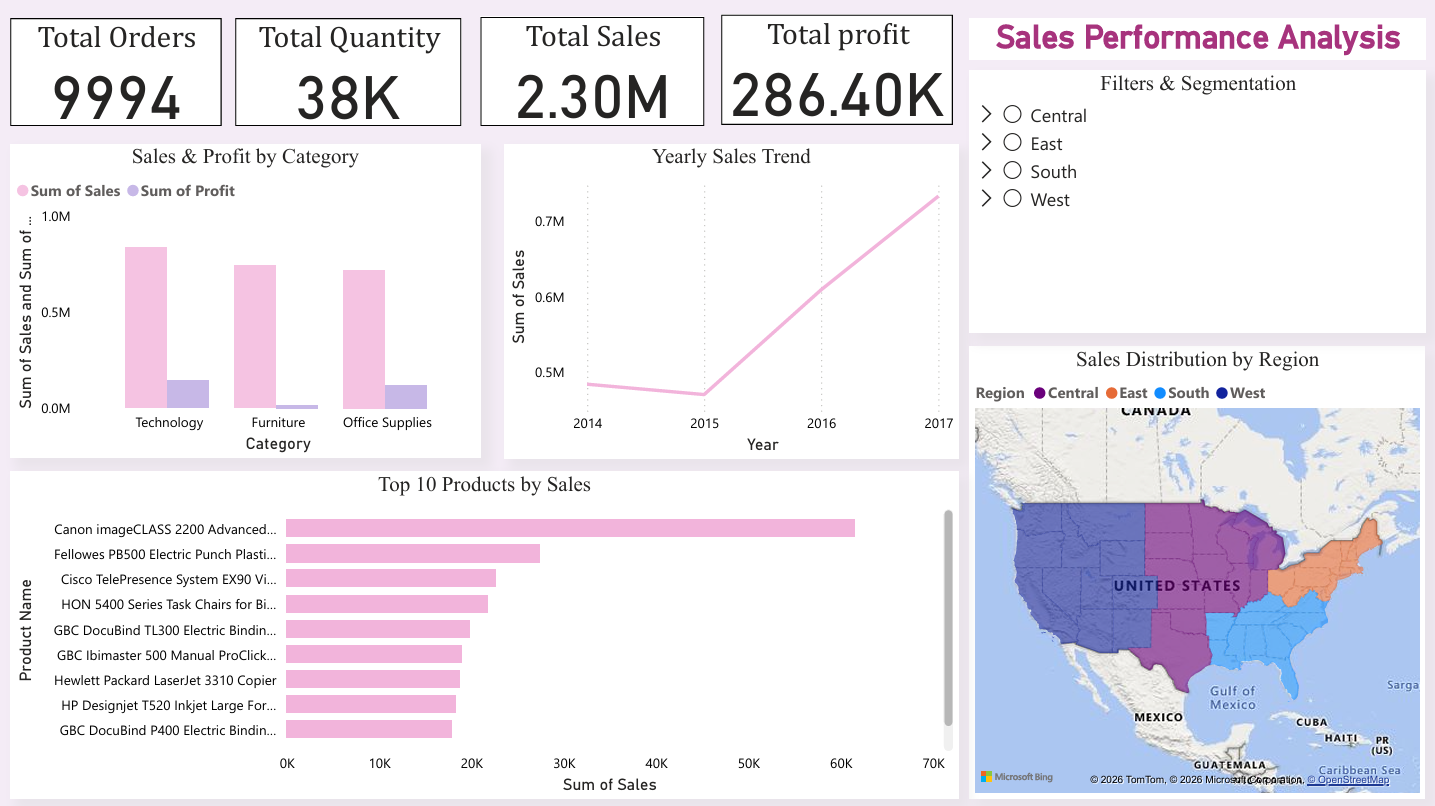

The page's visual inventory and layout, read from the dashboard file:
{"tool":"powerbi","page":{"name":"Overview Dashboard","canvas":[1280,720],"ordinal":0},"visuals":[{"type":"card","fields":{"Values":["CountNonNull(superstore_clean.Order ID)"]},"box":[0,0,178.5,118.6],"z":0},{"type":"card","fields":{"Values":["Sum(superstore_clean.Quantity)"]},"box":[178.5,0,196.9,118.6],"z":1000},{"type":"card","fields":{"Values":["Sum(superstore_clean.Profit)"]},"box":[561.3,0,205.4,118.6],"z":2000},{"type":"card","fields":{"Values":["Sum(superstore_clean.Sales)"]},"box":[375.4,0,185.9,118.6],"z":3000},{"type":"lineChart","title":"Yearly Sales Trend","fields":{"Category":["superstore_clean.Order Date.Variation.Date Hierarchy.Year","superstore_clean.Order Date.Variation.Date Hierarchy.Quarter","superstore_clean.Order Date.Variation.Date Hierarchy.Month","superstore_clean.Order Date.Variation.Date Hierarchy.Day"],"Y":["Sum(superstore_clean.Sales)"]},"box":[456.1,118.6,403.5,300.8],"z":4000},{"type":"clusteredColumnChart","title":"Sales & Profit by Category","fields":{"Category":["superstore_clean.Category"],"Y":["Sum(superstore_clean.Sales)","Sum(superstore_clean.Profit)"]},"box":[0,118.6,456.1,300.8],"z":5000},{"type":"filledMap","title":"Sales Distribution by Region","fields":{"Category":["superstore_clean.State"],"Series":["superstore_clean.Region"]},"box":[859.7,223.8,420.7,496.5],"z":6000},{"type":"clusteredBarChart","title":"Top 10 Products by Sales","fields":{"Category":["superstore_clean.Product Name"],"Y":["Sum(superstore_clean.Sales)"]},"box":[0,419.4,859.7,300.8],"z":7000},{"type":"listSlicer","title":"Filters & Segmentation","fields":{"Values":["superstore_clean.Region","superstore_clean.Category","superstore_clean.Order Date.Variation.Date Hierarchy.Year","superstore_clean.Order Date.Variation.Date Hierarchy.Quarter","superstore_clean.Order Date.Variation.Date Hierarchy.Month","superstore_clean.Order Date.Variation.Date Hierarchy.Day"]},"box":[859.7,0,420.7,223.8],"z":8000}]}

Visuals, with their boxes in screenshot pixels (x1, y1, x2, y2), scaled from the page's 1280x720 canvas onto the 1435x806 screenshot:
card - CountNonNull(superstore_clean.Order ID): <region>0, 0, 200, 133</region>
card - Sum(superstore_clean.Quantity): <region>200, 0, 421, 133</region>
card - Sum(superstore_clean.Profit): <region>629, 0, 860, 133</region>
card - Sum(superstore_clean.Sales): <region>421, 0, 629, 133</region>
"Yearly Sales Trend" lineChart: <region>511, 133, 964, 469</region>
"Sales & Profit by Category" clusteredColumnChart: <region>0, 133, 511, 469</region>
"Sales Distribution by Region" filledMap: <region>964, 251, 1434, 805</region>
"Top 10 Products by Sales" clusteredBarChart: <region>0, 469, 964, 805</region>
"Filters & Segmentation" listSlicer: <region>964, 0, 1434, 251</region>
